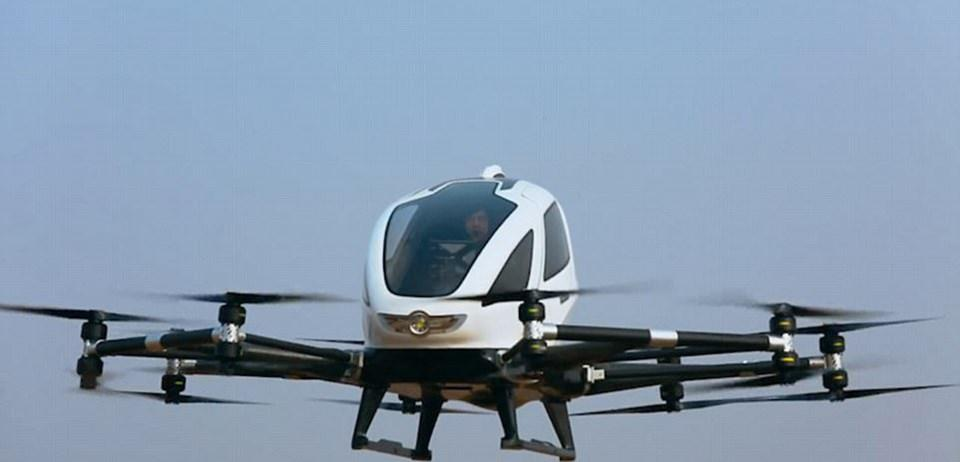drone: (15, 265, 942, 462)
